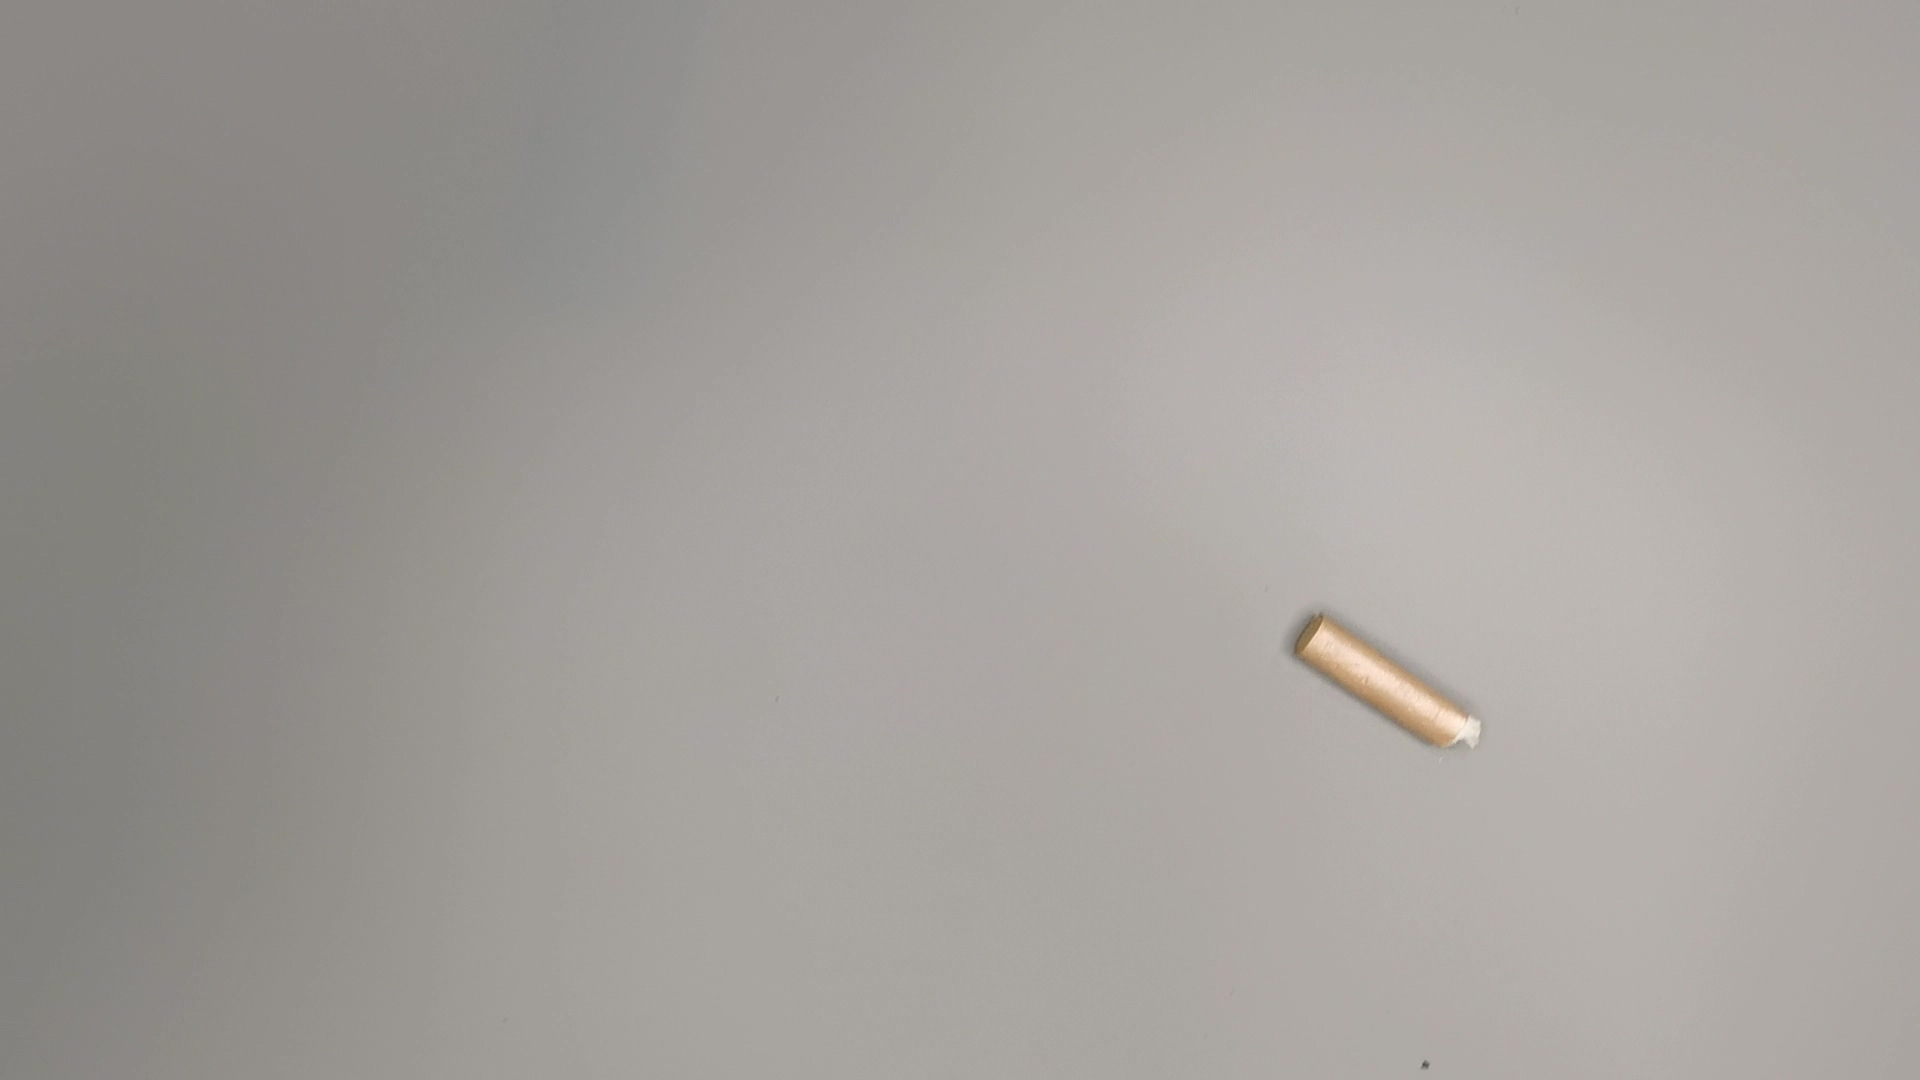cigarette: (1284, 609, 1491, 761)
